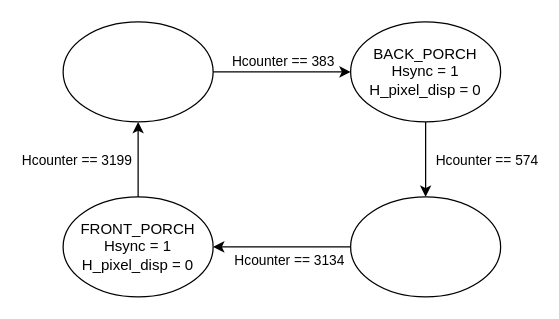
Image size: 559x319. Some labels were removed from this diagram. The shapes that lost their labels are listed below. From the top down, each one's box as (x1, y1, x2, y2) in pixels, then its label:
(62, 21, 213, 122): PULSE Hsync = 0 H_pixel_disp = 0
(349, 196, 501, 297): DISPLAY_TIME Hsync = 1 H_pixel_disp = 1
